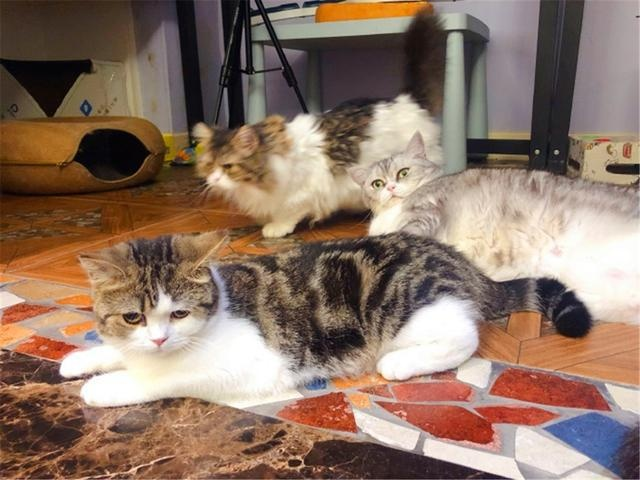cat: (57, 227, 593, 410), (347, 130, 640, 327), (194, 90, 446, 239)
